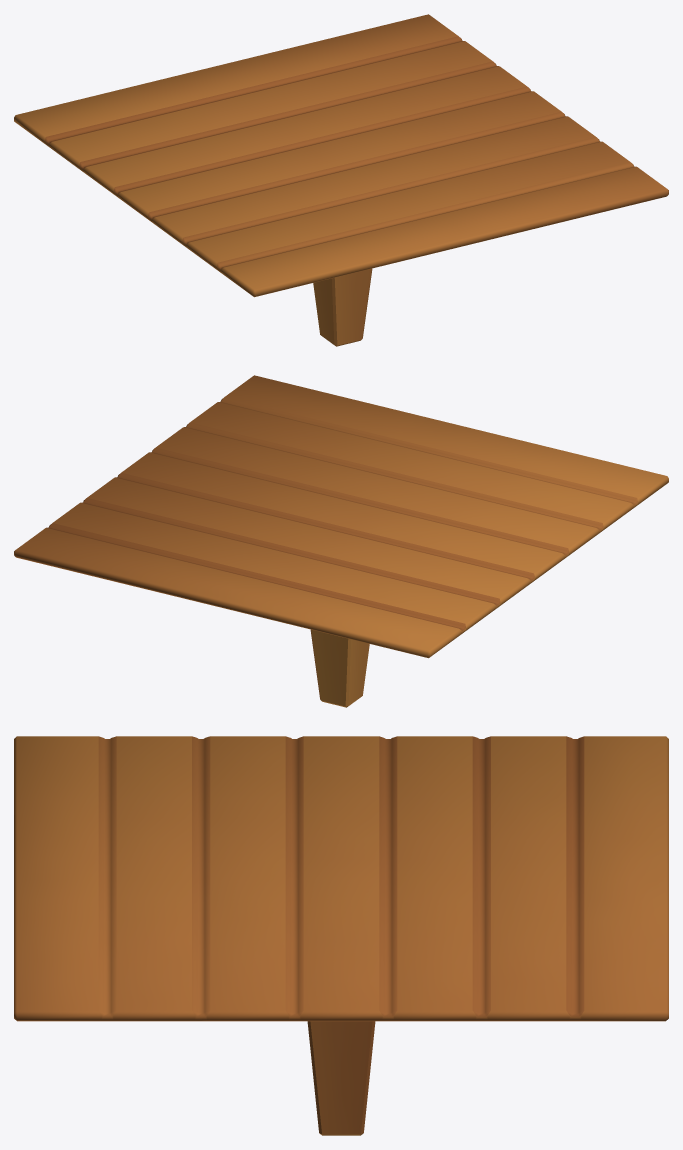
Rendered from Sweetie_Table.fbx.
The picture shows the model from 3 angles, top to bottom: view 1: azimuth 30°, elevation 25°; view 2: azimuth 150°, elevation 25°; view 3: azimuth 270°, elevation 25°; orthographic projection. The views are drawn at different scales.
Visible parts, largest first — view 1: Plane; view 2: Plane; view 3: Plane.
Boxes of the visible parts, x1,y1,x2,y2 form: Plane: (14, 14, 668, 346); Plane: (14, 375, 668, 707); Plane: (14, 736, 668, 1135).
Size of the model in its own units: 1.31 by 1.31 by 0.561.
1 material, 1 textured.
